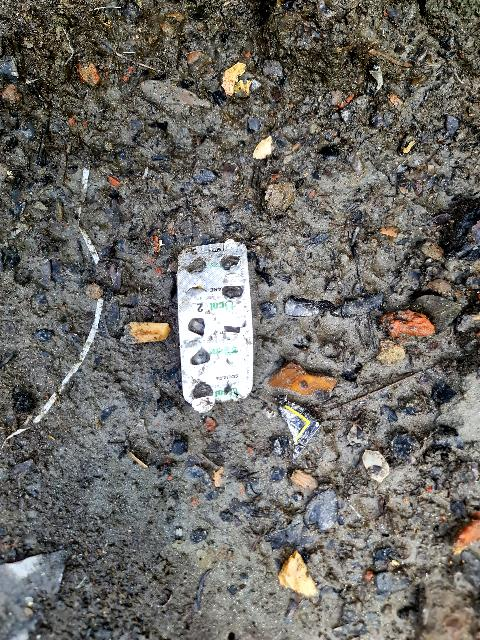medicine: (158, 234, 261, 417)
